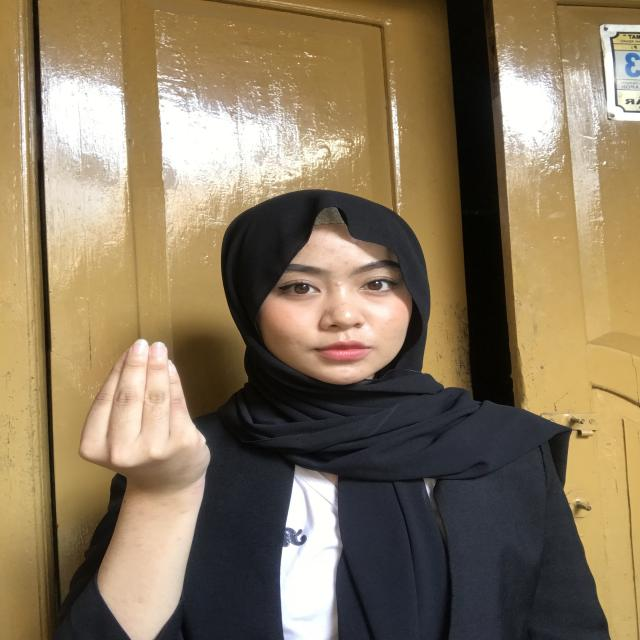kapan: (52, 305, 232, 514)
